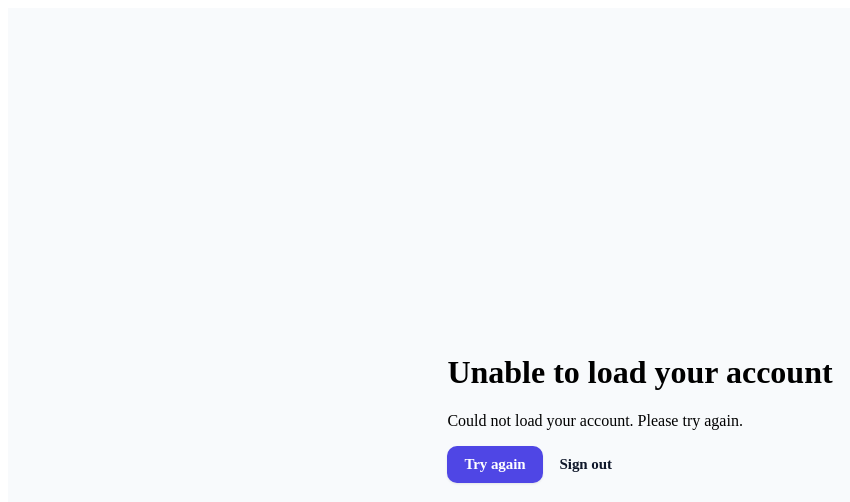
account loading and protected routing › shows retry for a profiles error instead of workspace signup
Expected: the message is shown, left=447, top=333, right=833, bottom=484
Expected: the text "Workspace: Shop" is not shown
Step 1. Click the button "Try again" → (495, 465), box left=447, top=446, right=542, bottom=483
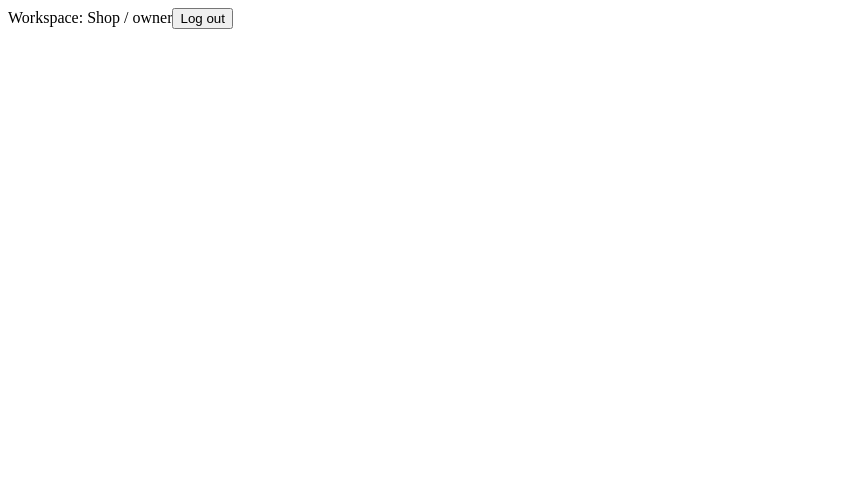
Expected: the text "Workspace: Shop / owner" is shown, left=8, top=8, right=233, bottom=29
Expected: the message is gone
